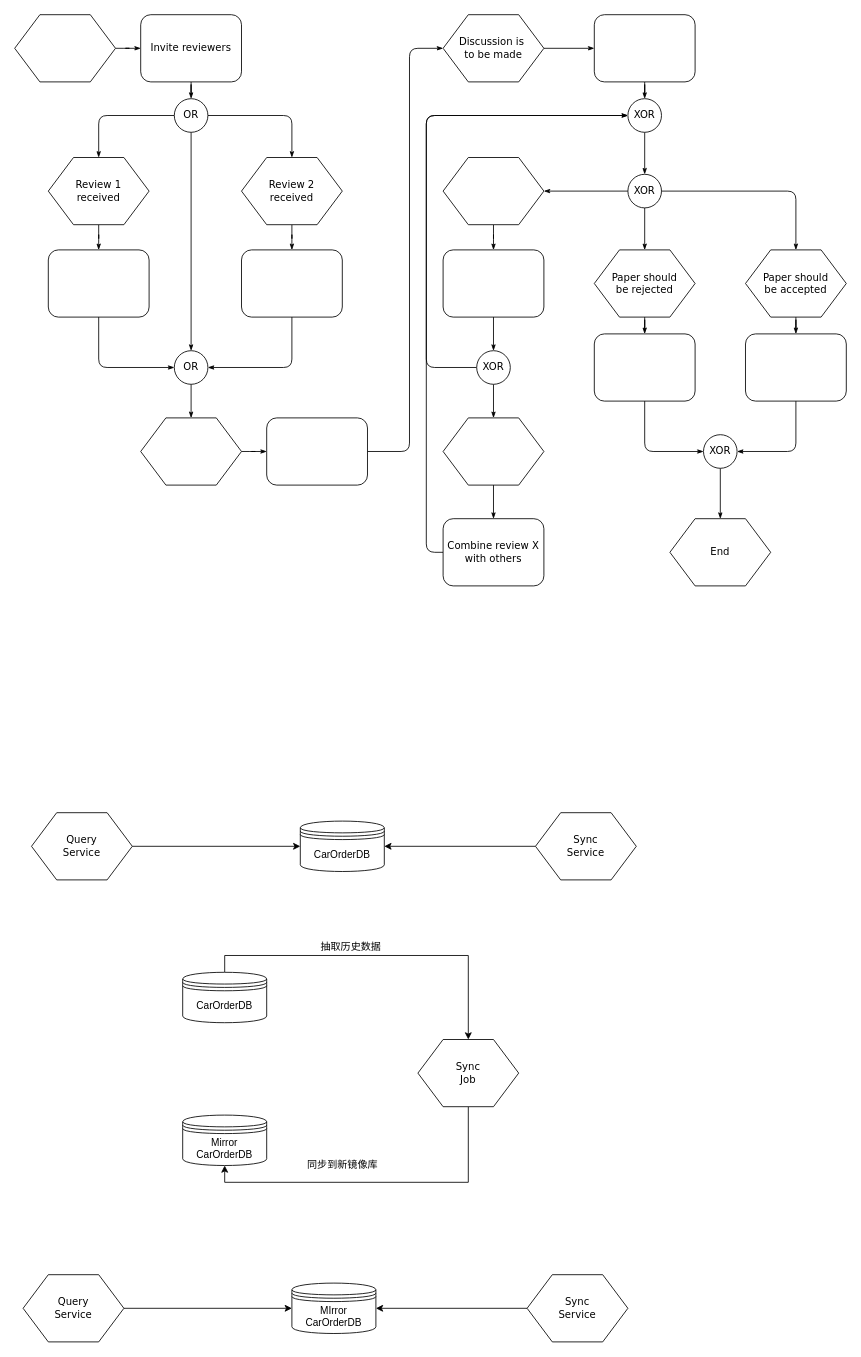
Some shapes in this 861 by 1357 pixel diagram are drawn without their labels. The shapes that lost their labels are listed below. From the top down, each one's centre as x and y in pixels, then its label:
the point at 65,48: Reviewers are to be invited
the point at 644,48: Decide on acceptance
the point at 493,191: Additional review is needed
the point at 98,283: Store Review 1
the point at 291,283: Store Review 2
the point at 493,283: Invite additional reviewer
the point at 644,367: Reject paper
the point at 795,367: Accept paper
the point at 191,451: Reviews are to be combined
the point at 317,451: Combine reviews
the point at 493,451: Review X was received
